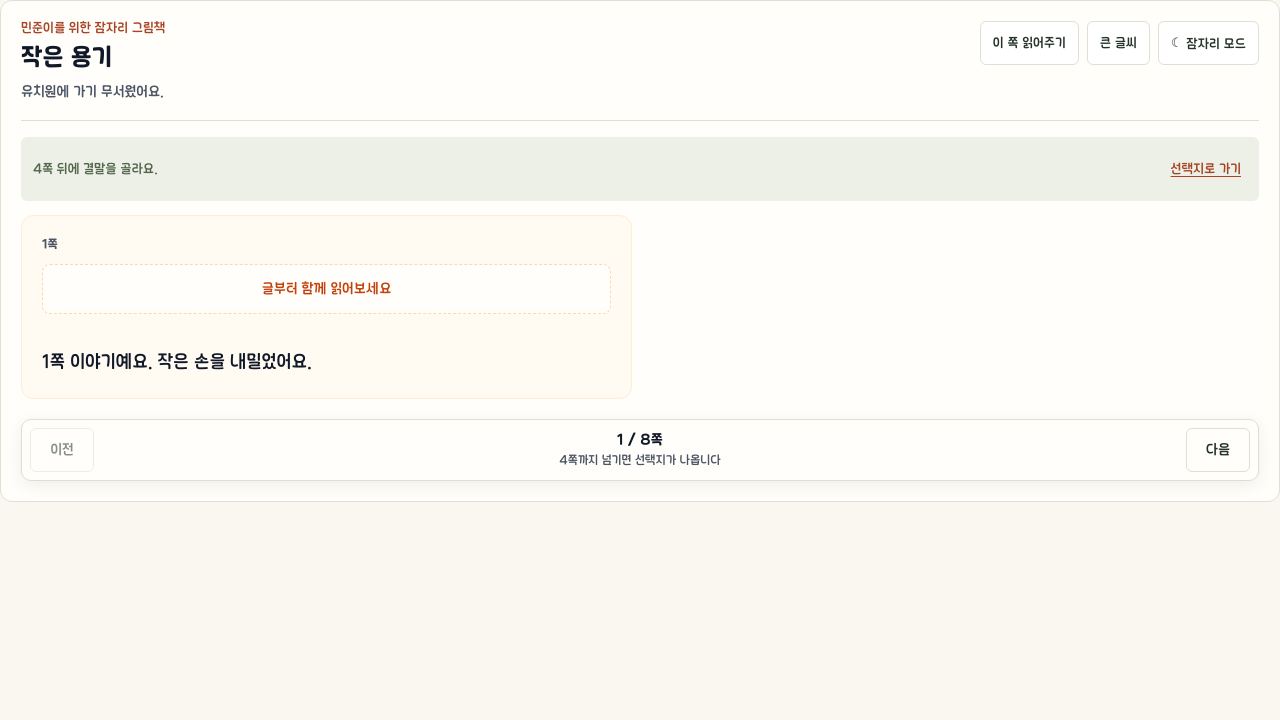
Scenario: browser read-aloud › recovers the control if the browser refuses speech playback
Click the button "이 쪽 읽어주기": point(1029, 43) [980,21,1079,65]
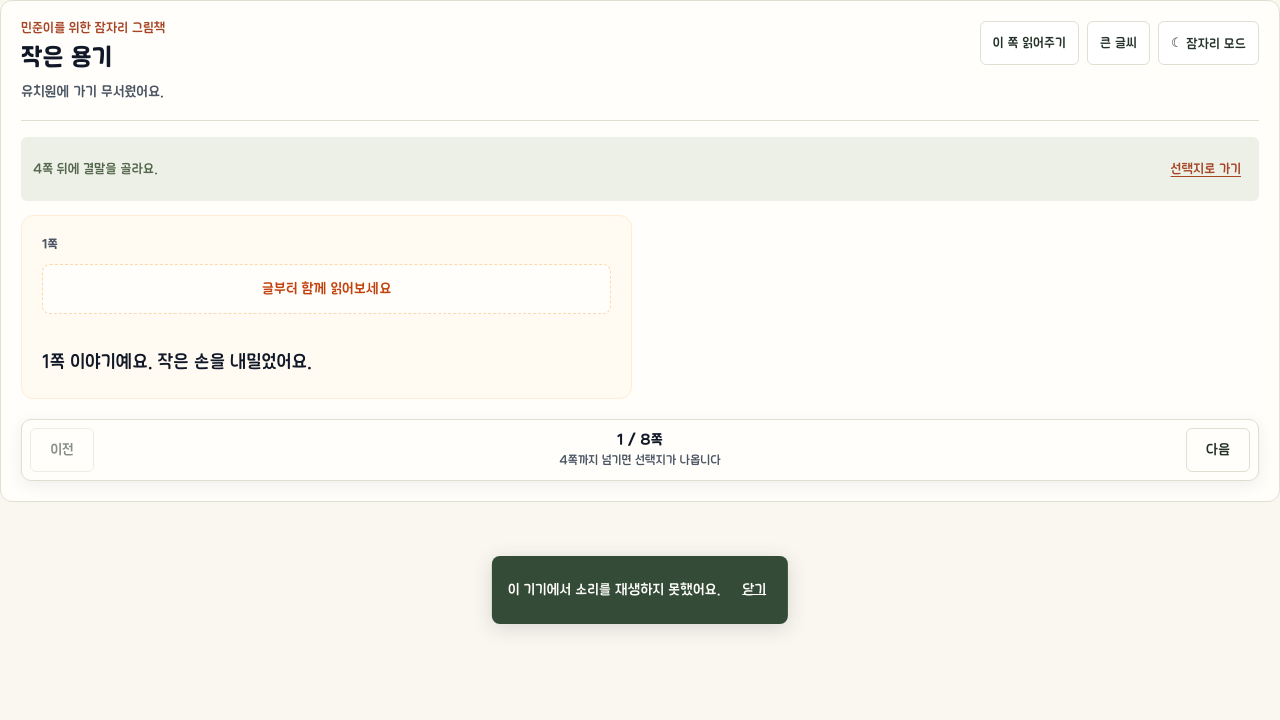
Expected: the text "이 기기에서 소리를 재생하지 못했어요." is shown, [508,582,720,598]
